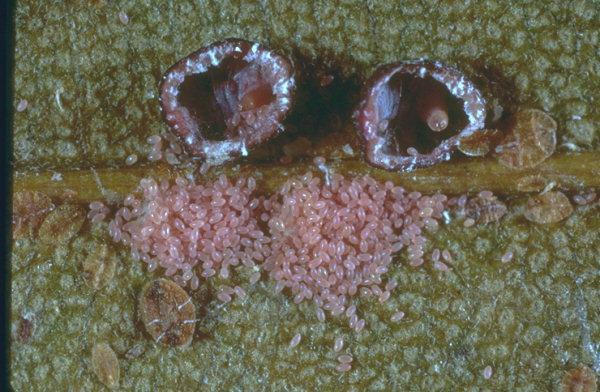BlackScale: (114, 34, 521, 306)
